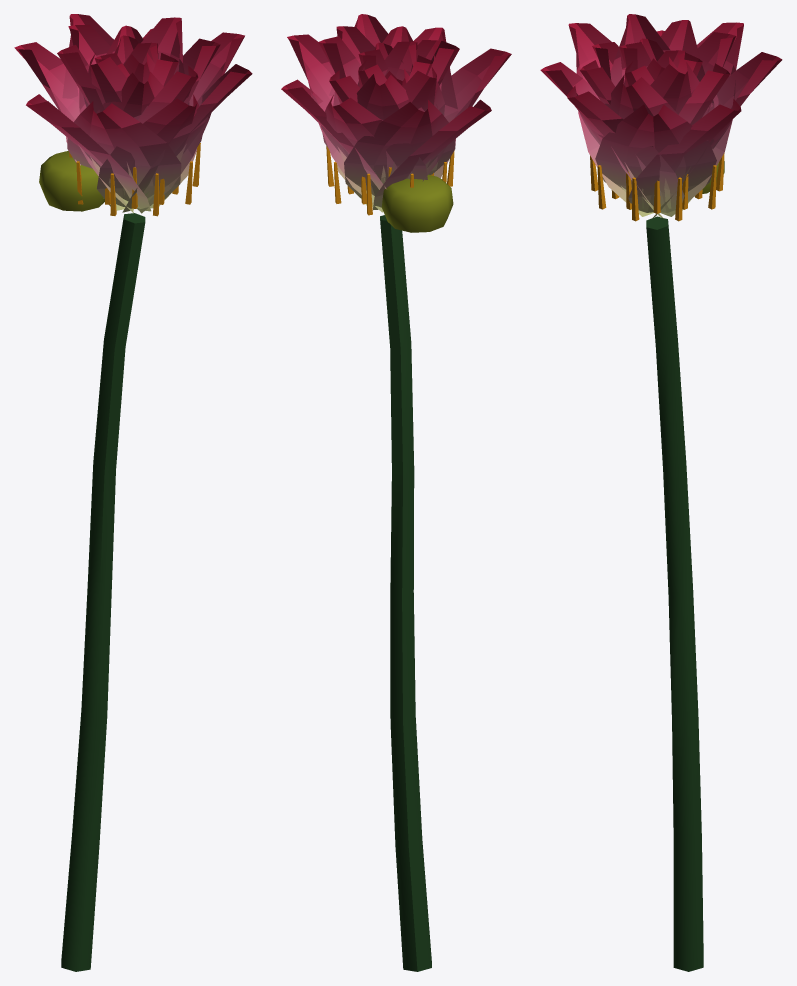
The model's file is lotus-flower-half.glb.
3 views of the same model, side by side, from view 1: azimuth 30°, elevation 25°; view 2: azimuth 150°, elevation 25°; view 3: azimuth 270°, elevation 25° (orthographic). The views are drawn at different scales.
Parts seen in each view (by area): view 1: lotus-flower-half-petals, lotus-flower-half-stem, lotus-flower-half-core; view 2: lotus-flower-half-petals, lotus-flower-half-stem, lotus-flower-half-core; view 3: lotus-flower-half-petals, lotus-flower-half-stem, lotus-flower-half-core.
Part boxes in pixels (box(x1,y1,x2,y2)): lotus-flower-half-petals: box(14, 14, 252, 213); lotus-flower-half-stem: box(61, 213, 145, 971); lotus-flower-half-core: box(39, 143, 200, 216); lotus-flower-half-petals: box(281, 14, 511, 212); lotus-flower-half-stem: box(380, 215, 431, 971); lotus-flower-half-core: box(326, 146, 454, 232); lotus-flower-half-petals: box(540, 14, 782, 218); lotus-flower-half-stem: box(646, 216, 703, 971); lotus-flower-half-core: box(590, 153, 724, 221).
Size of the model in its own units: 0.241 by 0.9949 by 0.2307.
